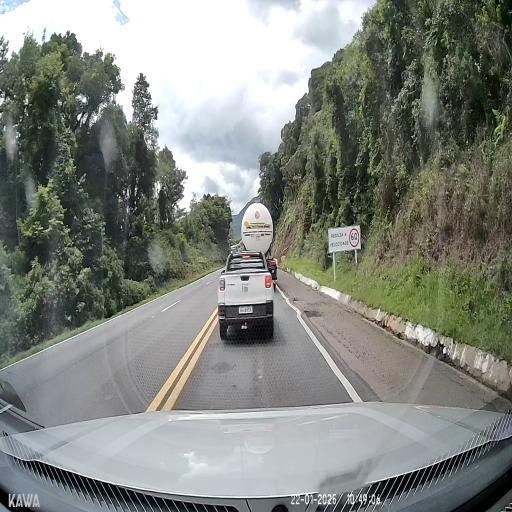R-19: (348, 228, 360, 247)
